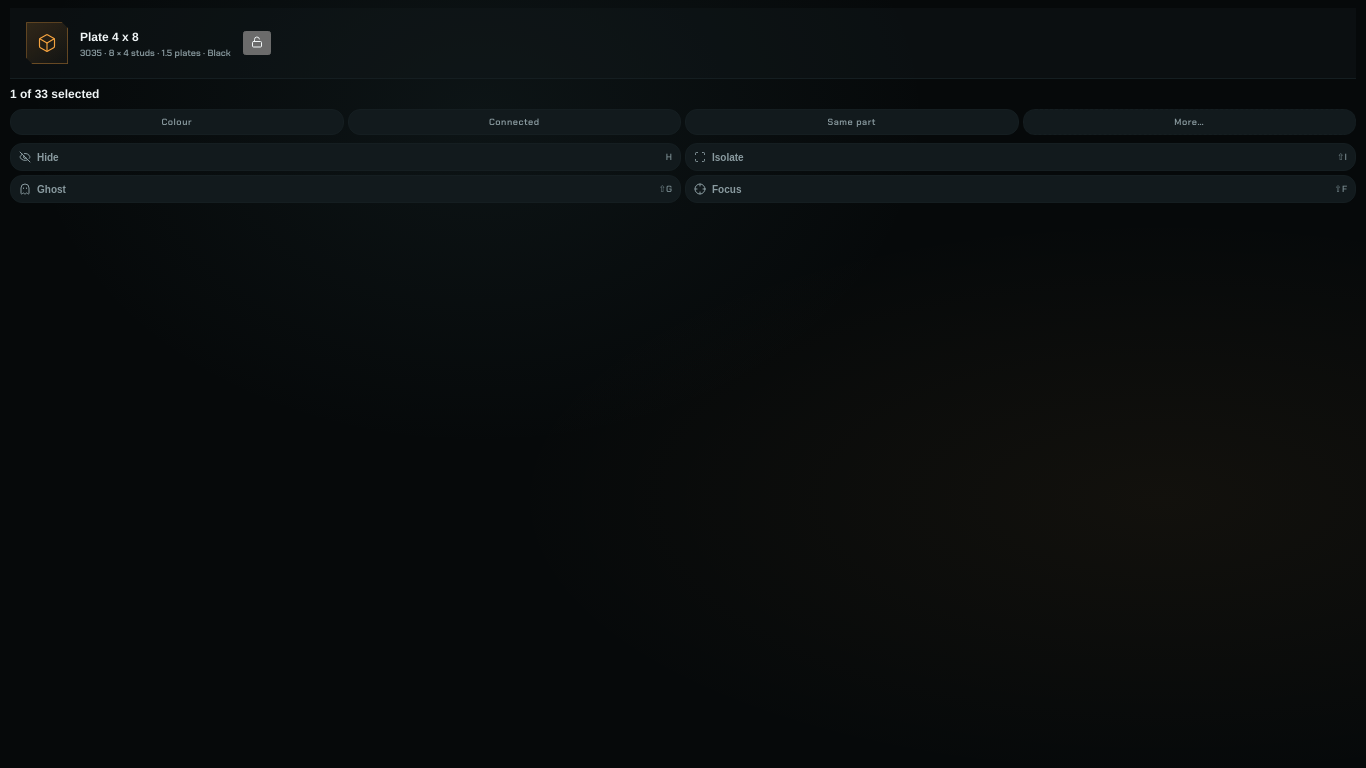
Test: selection modes › keeps modes off-screen until something is selected
The width and height of the screenshot is (1366, 768).
Expected: the button "Colour" is enabled, [10,109,344,135]
Expected: the button "Visible" is not shown
Click the button "More…" at {"x": 1189, "y": 122}, box [1022,109,1356,135]
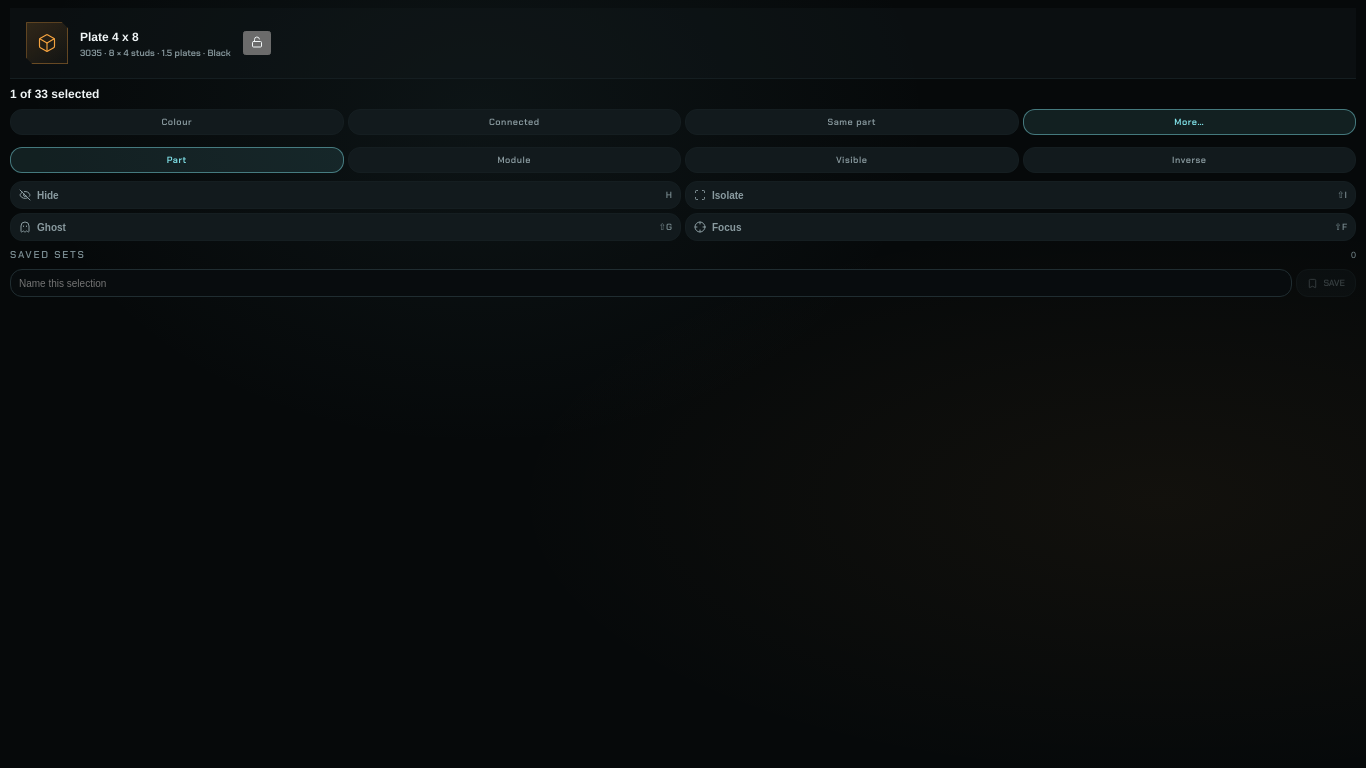
Expected: the button "Visible" is enabled, [685,147,1018,173]
